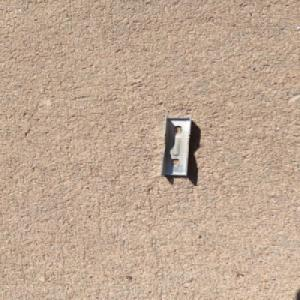ClampPart: (158, 114, 194, 177)
